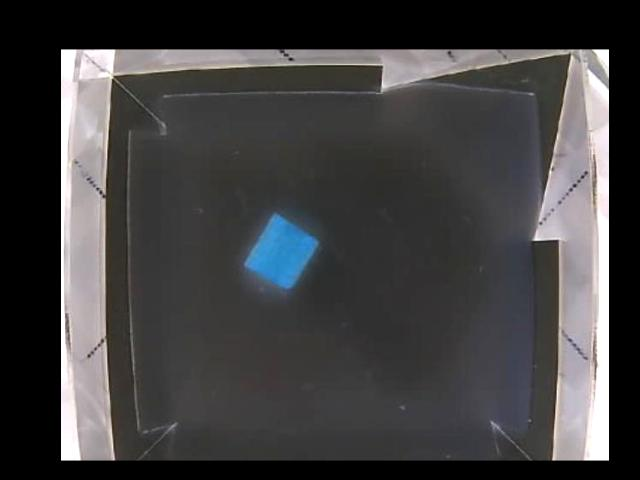Carrot: (248, 214, 316, 286)
